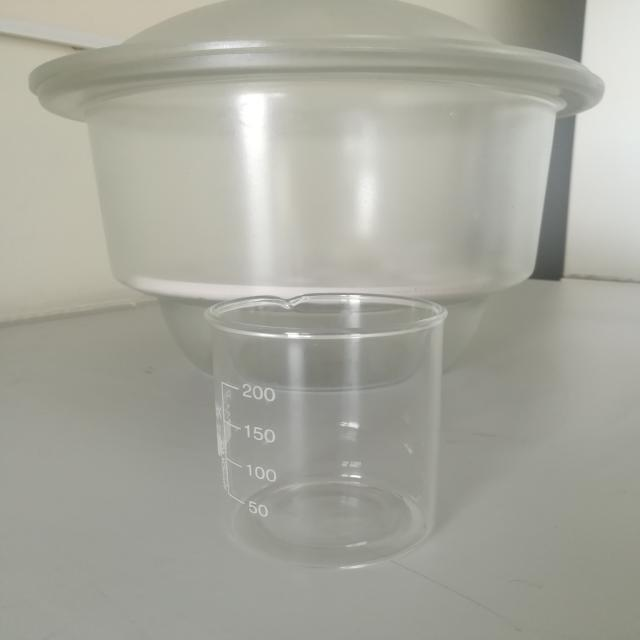Beaker: (166, 262, 478, 577)
